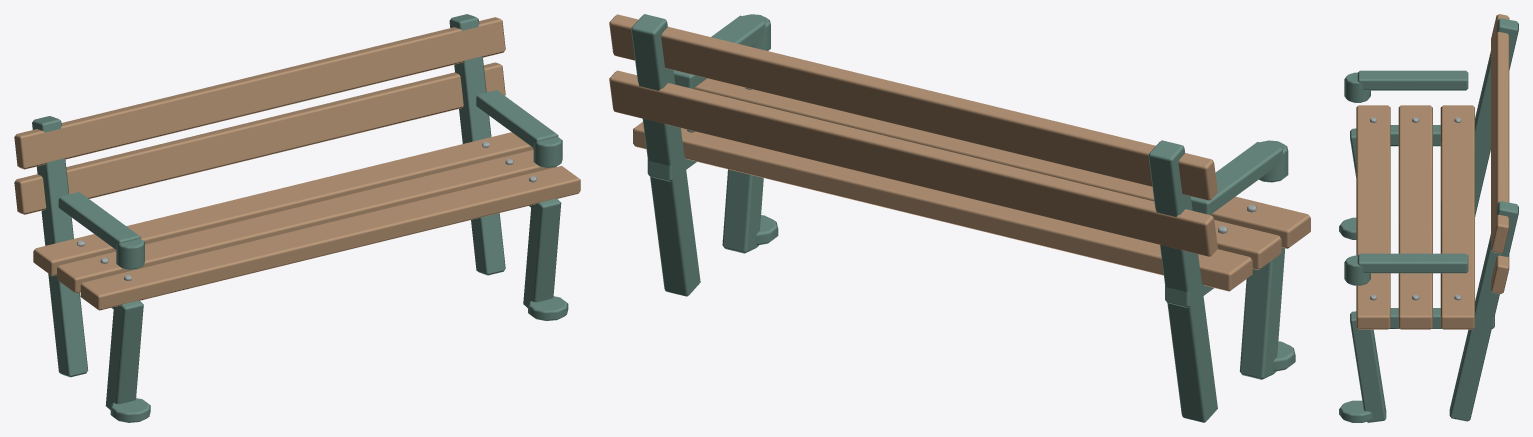
File: park_bench.glb
3 renders of one model, left to right at view 1: azimuth 30°, elevation 25°; view 2: azimuth 150°, elevation 25°; view 3: azimuth 270°, elevation 25°, orthographic. The views are drawn at different scales.
Visible parts, largest first — view 1: bench; view 2: bench; view 3: bench.
Part boxes in pixels (left/top/right/bottom): bench: left=14, top=14, right=580, bottom=422; bench: left=609, top=14, right=1310, bottom=422; bench: left=1339, top=14, right=1518, bottom=422.
Bounding box in the file's own units: 1.9 × 0.8988 × 0.6808.
